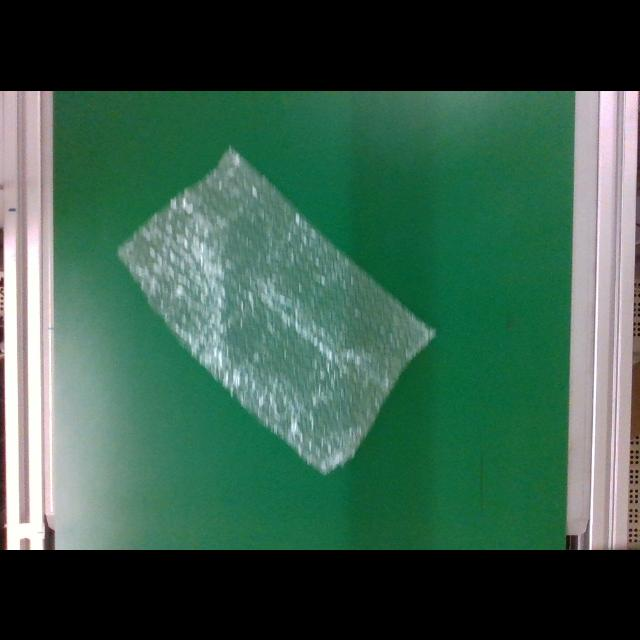scrap_plastic: (115, 137, 437, 489), (110, 140, 437, 472)
